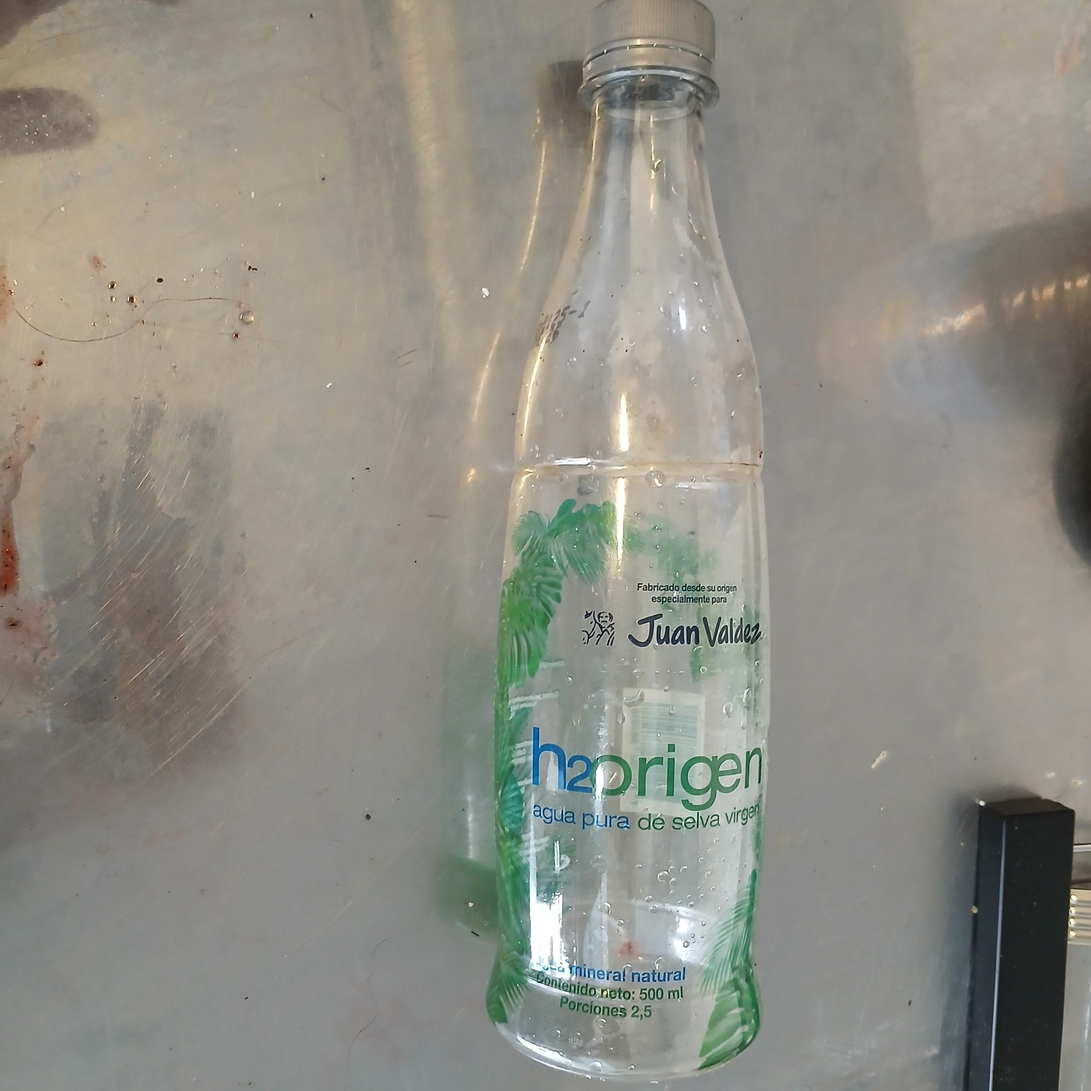Plastico: (485, 0, 773, 1079)
